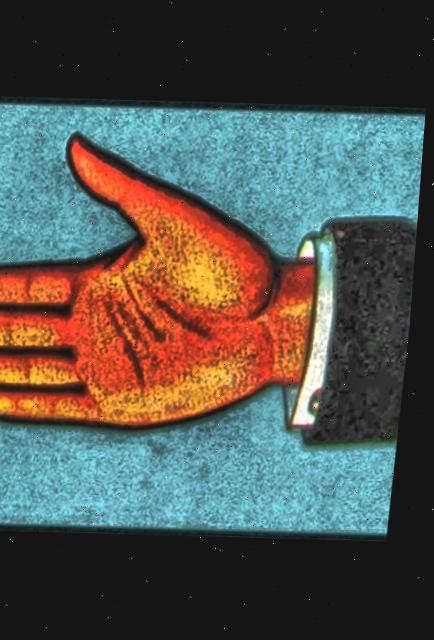La Mano: (0, 99, 428, 534)
